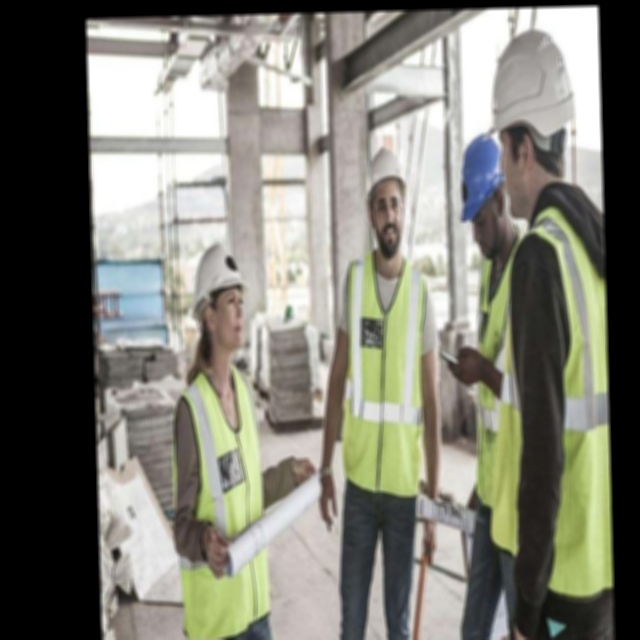Con_Casco: (495, 31, 573, 207), (198, 240, 244, 346)
Con_Chaleco: (175, 365, 264, 640), (339, 259, 429, 500)
